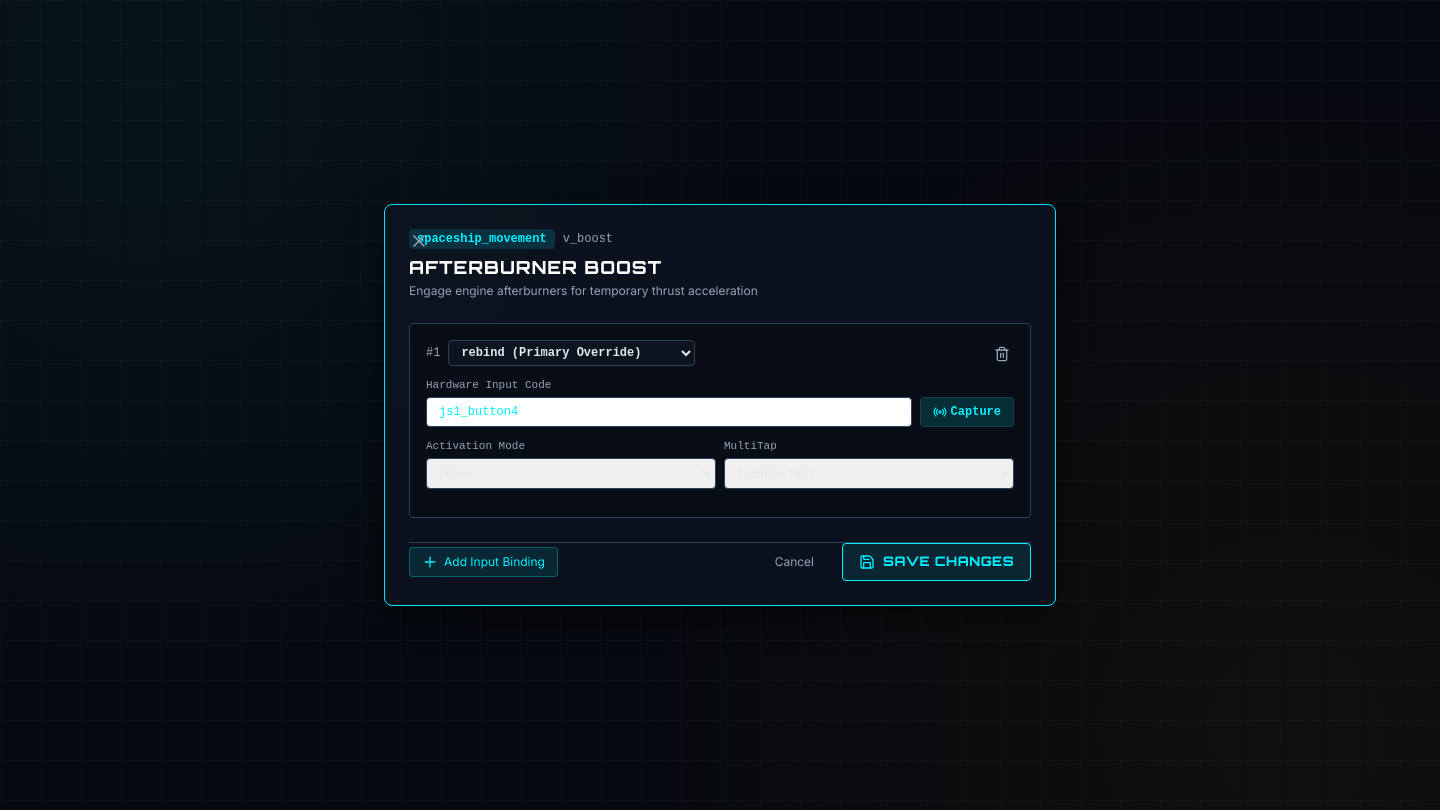
Test: BindingEditorModal Component › captures hardware input when capture button is toggled
# Click Capture to begin listening
Click the button "Capture": [967, 412] box [920, 397, 1014, 427]
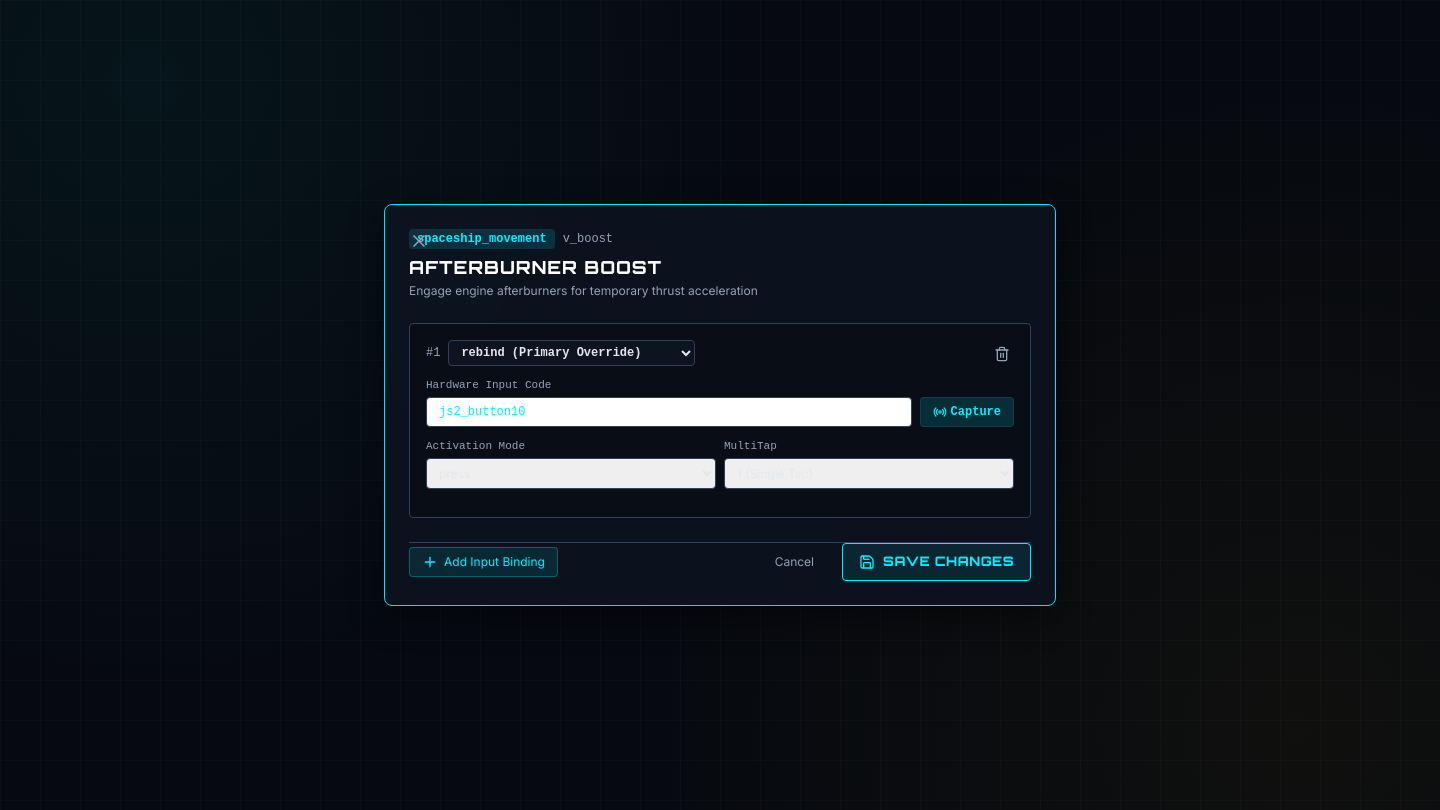
Now the field showing "js2_button10" is shown, box [426, 397, 912, 427]
